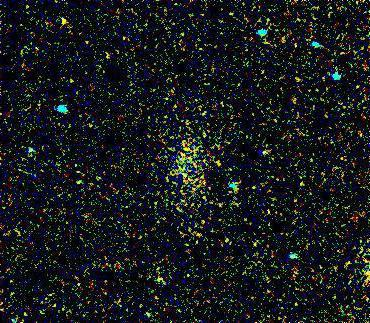star: (49, 6, 79, 36)
